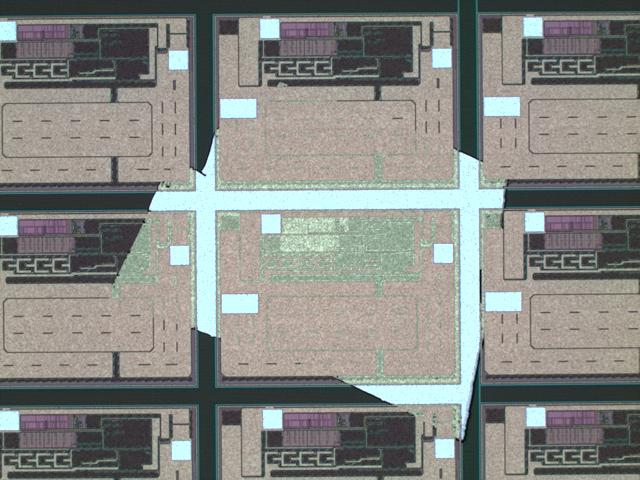BLOCK ETCH: (104, 79, 515, 449)
